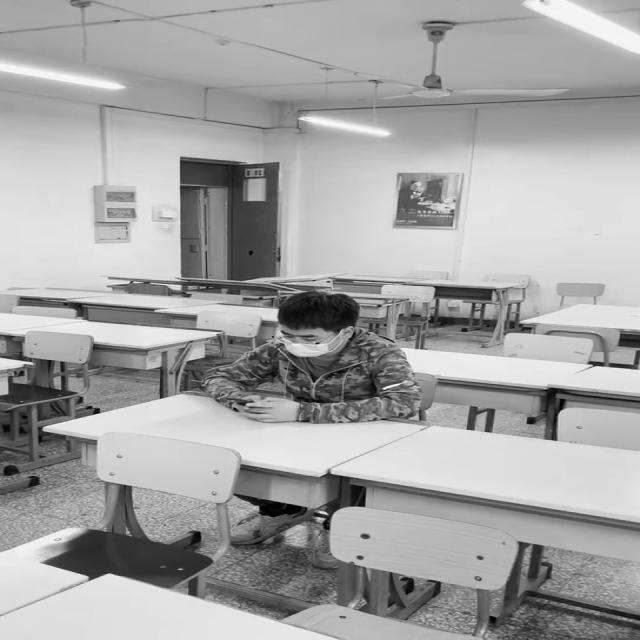phone: (203, 293, 424, 424)
